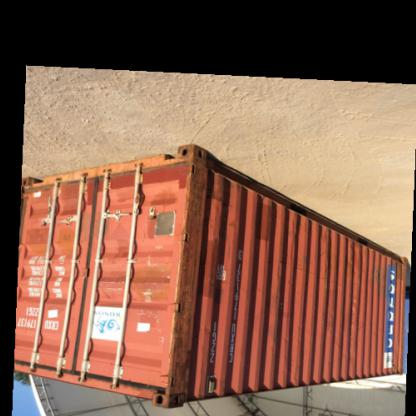Damage: (174, 167, 208, 281), (166, 309, 196, 385), (314, 226, 334, 292), (343, 301, 360, 362), (285, 215, 298, 271), (279, 326, 292, 356), (271, 292, 283, 310)
